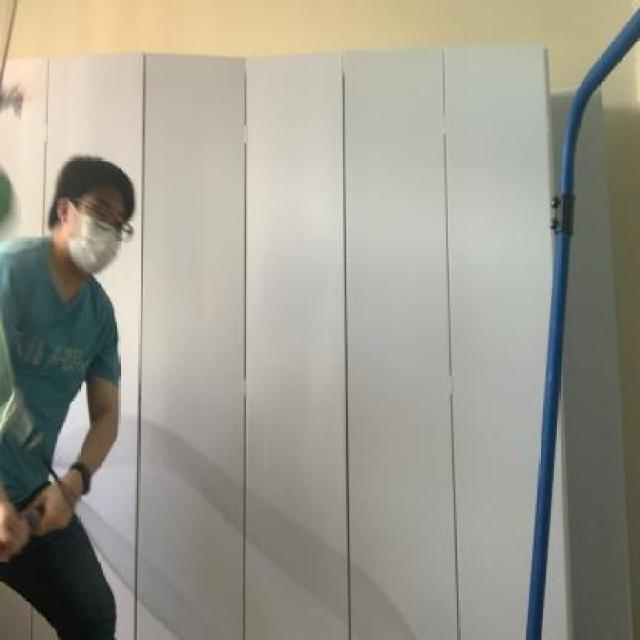baseball: (0, 144, 15, 241)
